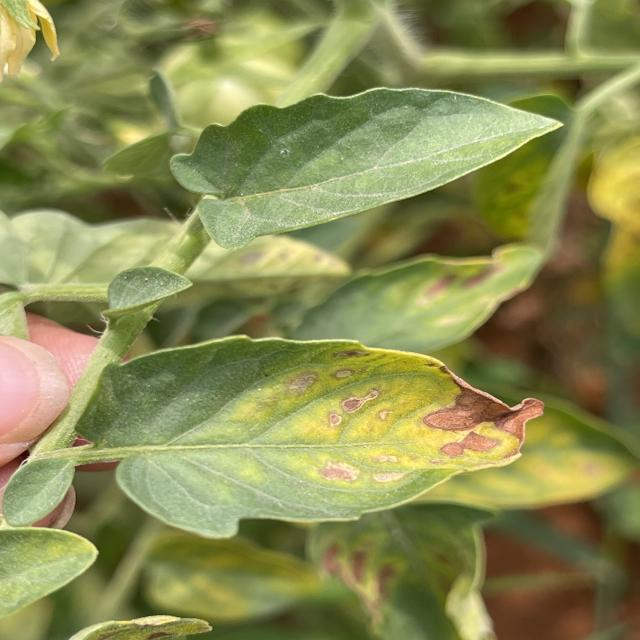tomato_early blight: (82, 335, 543, 538)
tomato_healthy: (170, 87, 560, 249)
